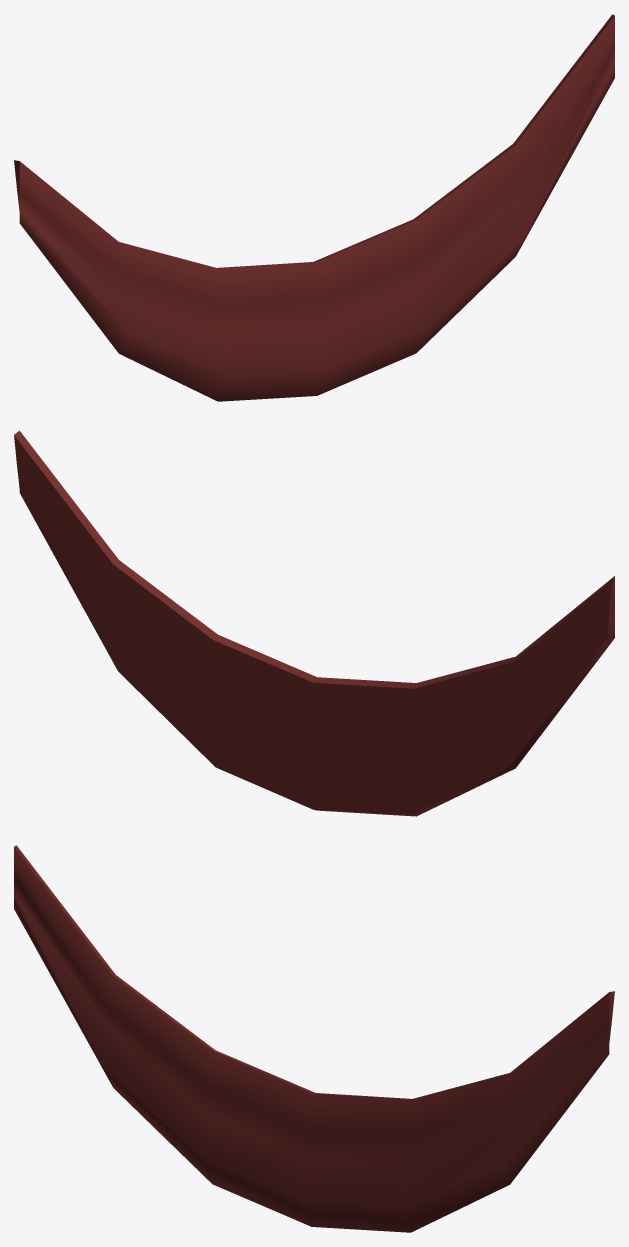
The model's file is cloth_wall_001.fbx.
3 renders of one model, top to bottom at view 1: azimuth 30°, elevation 25°; view 2: azimuth 150°, elevation 25°; view 3: azimuth 330°, elevation 25°, orthographic.
Parts seen in each view (by area): view 1: cloth.wall.001; view 2: cloth.wall.001; view 3: cloth.wall.001.
Boxes of the visible parts, x1,y1,x2,y2 form: cloth.wall.001: (14,14,614,401); cloth.wall.001: (14,430,614,816); cloth.wall.001: (14,845,614,1232).
Bounding box in the file's own units: 402 × 197 × 16.32.
